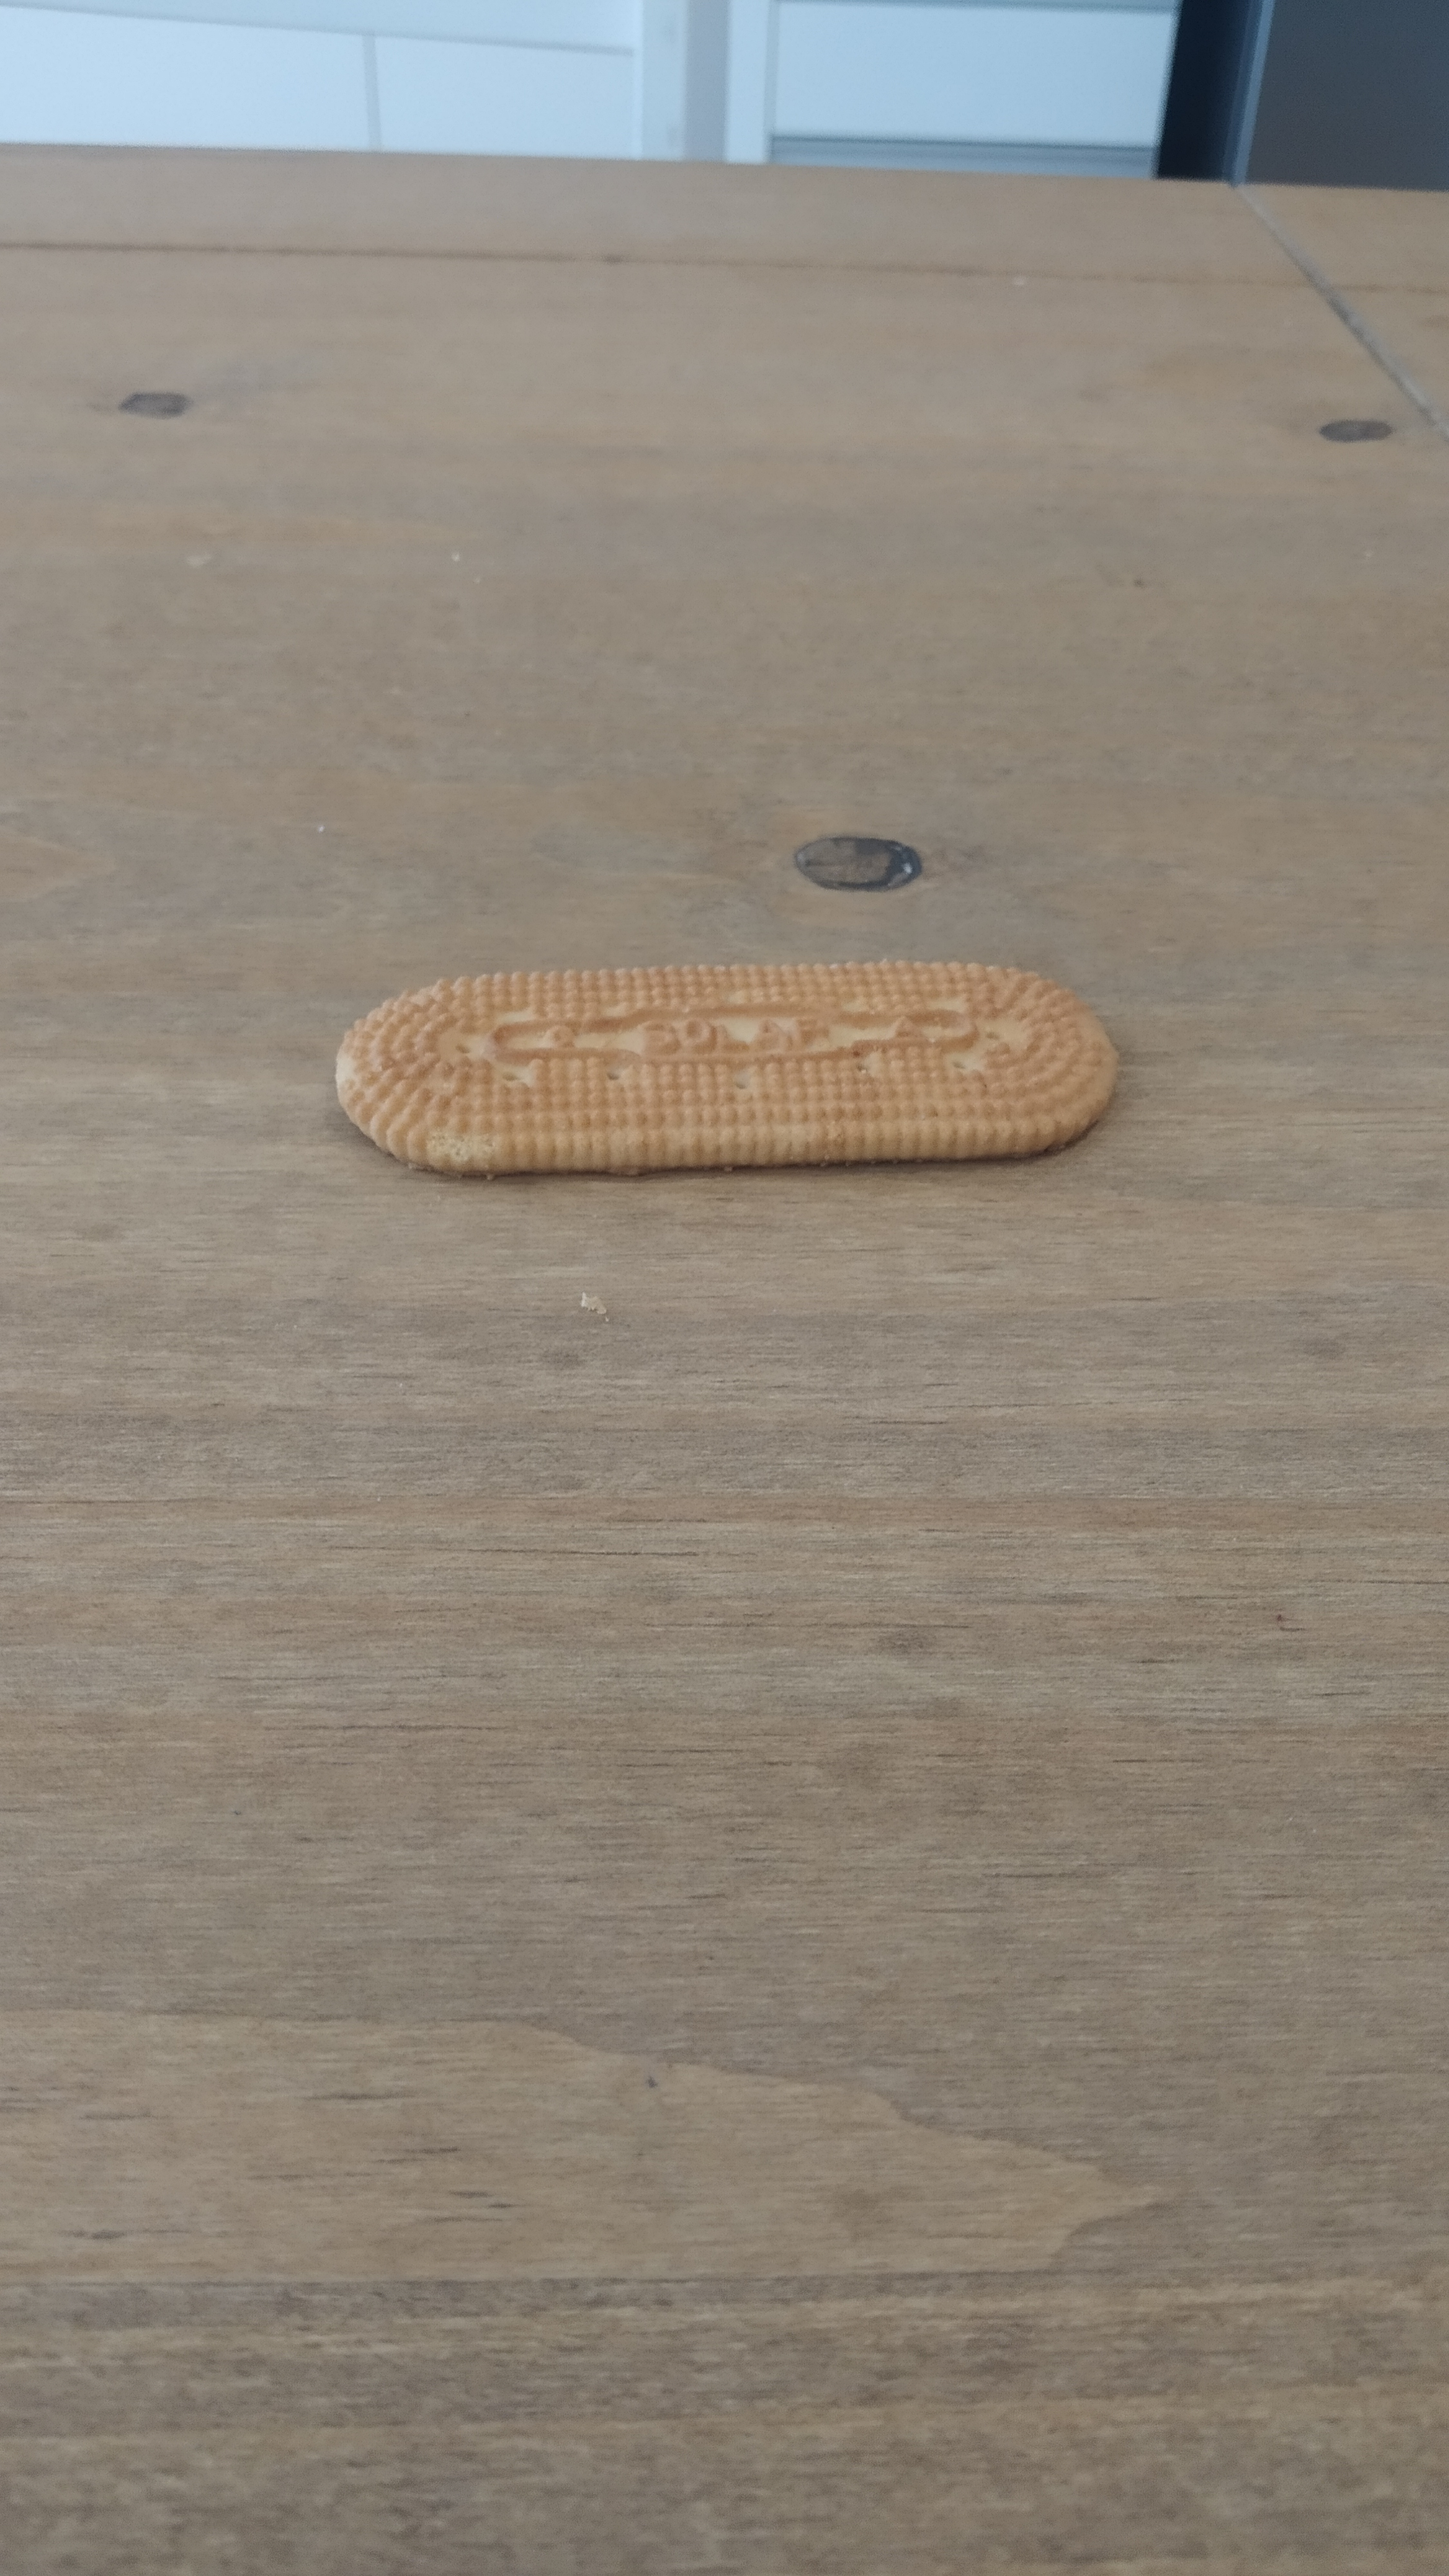solar: (334, 961, 1118, 1175)
